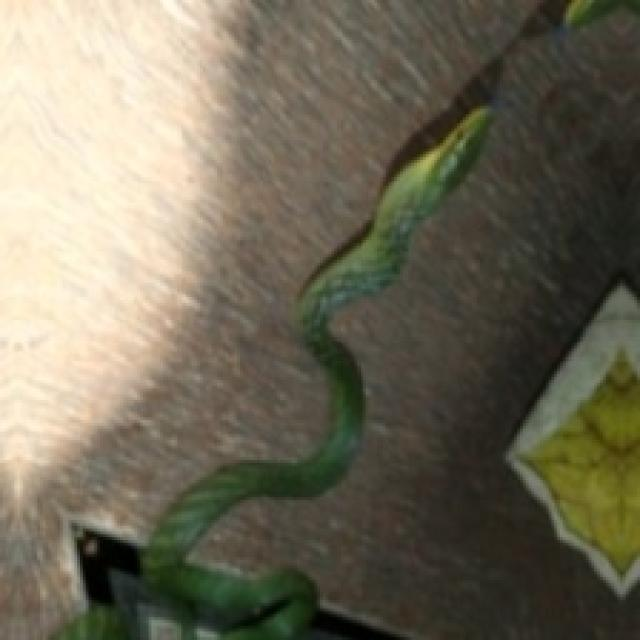red-tailed green ratsnake: (143, 106, 489, 637)
